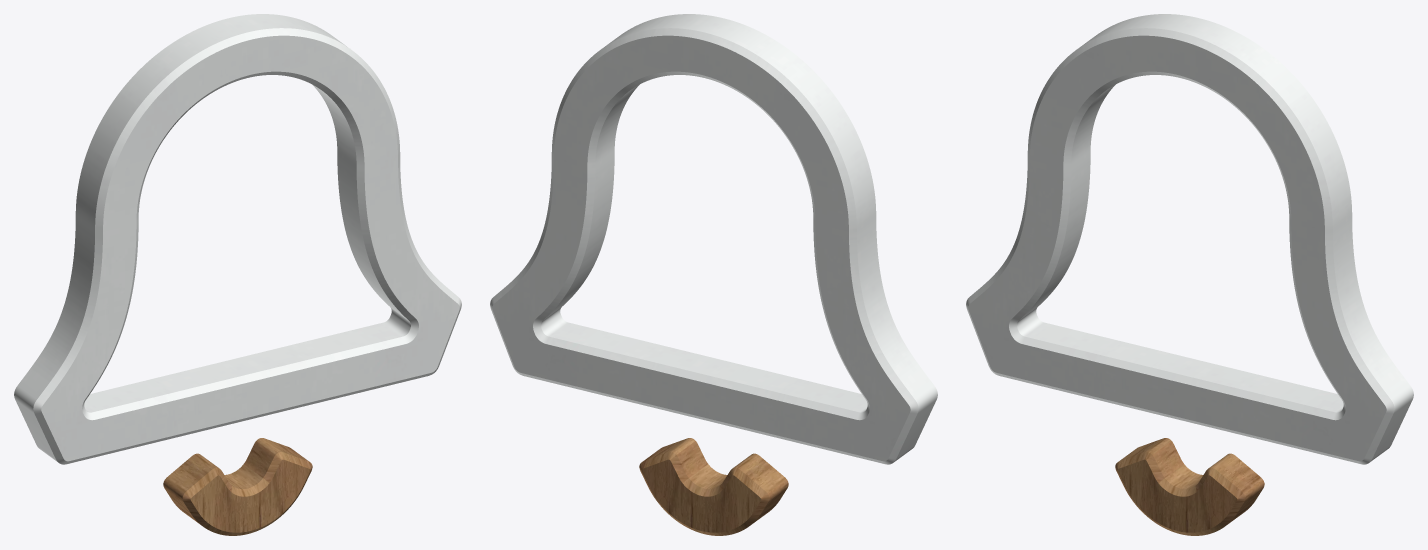
Rendered from releases.glb.
3 views of the same model, side by side, from view 1: azimuth 30°, elevation 25°; view 2: azimuth 150°, elevation 25°; view 3: azimuth 330°, elevation 25° (orthographic).
Visible parts, largest first — view 1: Icon; view 2: Icon; view 3: Icon.
Boxes of the visible parts, <box> form: Icon: <box>14,14,461,535</box>; Icon: <box>490,14,937,535</box>; Icon: <box>966,14,1413,535</box>.
Bounding box in the file's own units: 0.1787 × 0.2 × 0.0182.
Materials: 2 (2 with a texture image).
